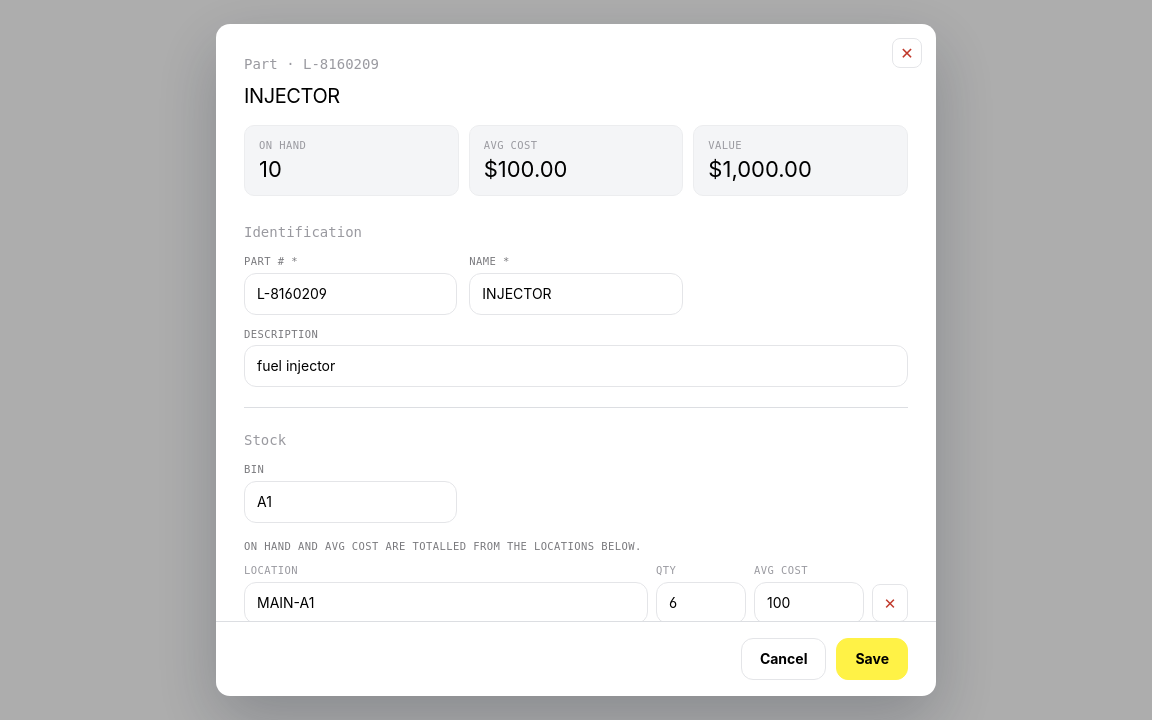
Test case: PartDetailModal › can't be saved without the two identifying fields
Clear the field showing "L-8160209" at (351, 294), box [244,273,457,315]
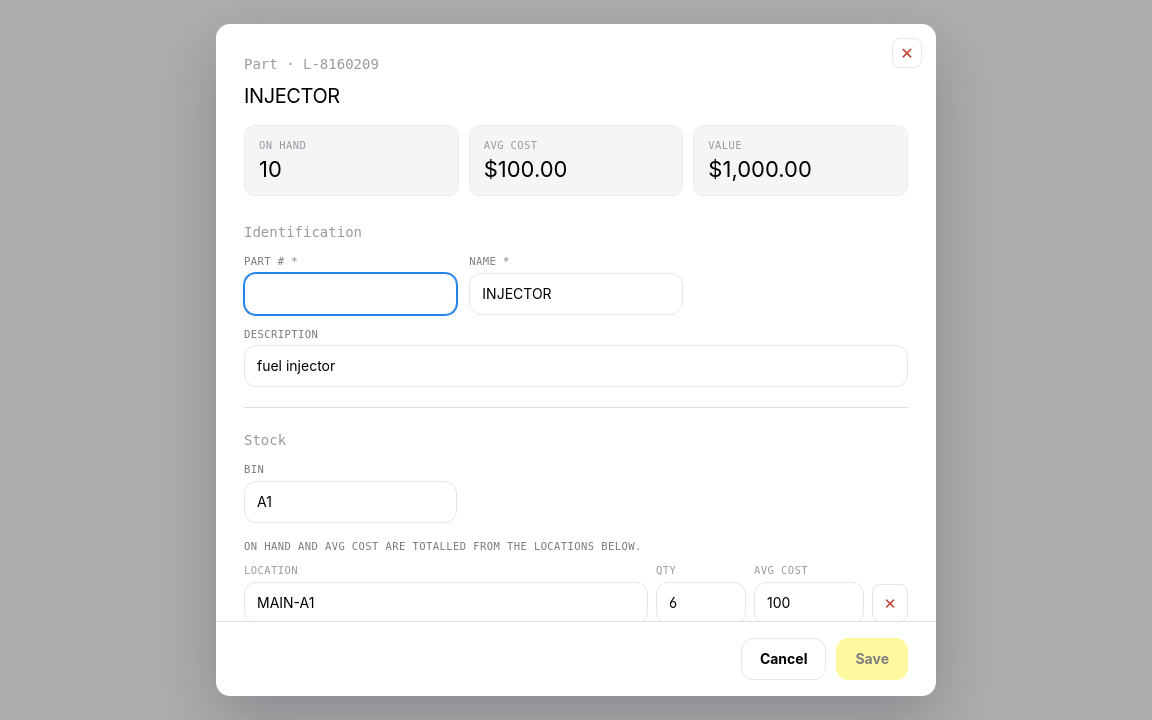
Now the button "Save" is disabled, box [836,638,908,680]
